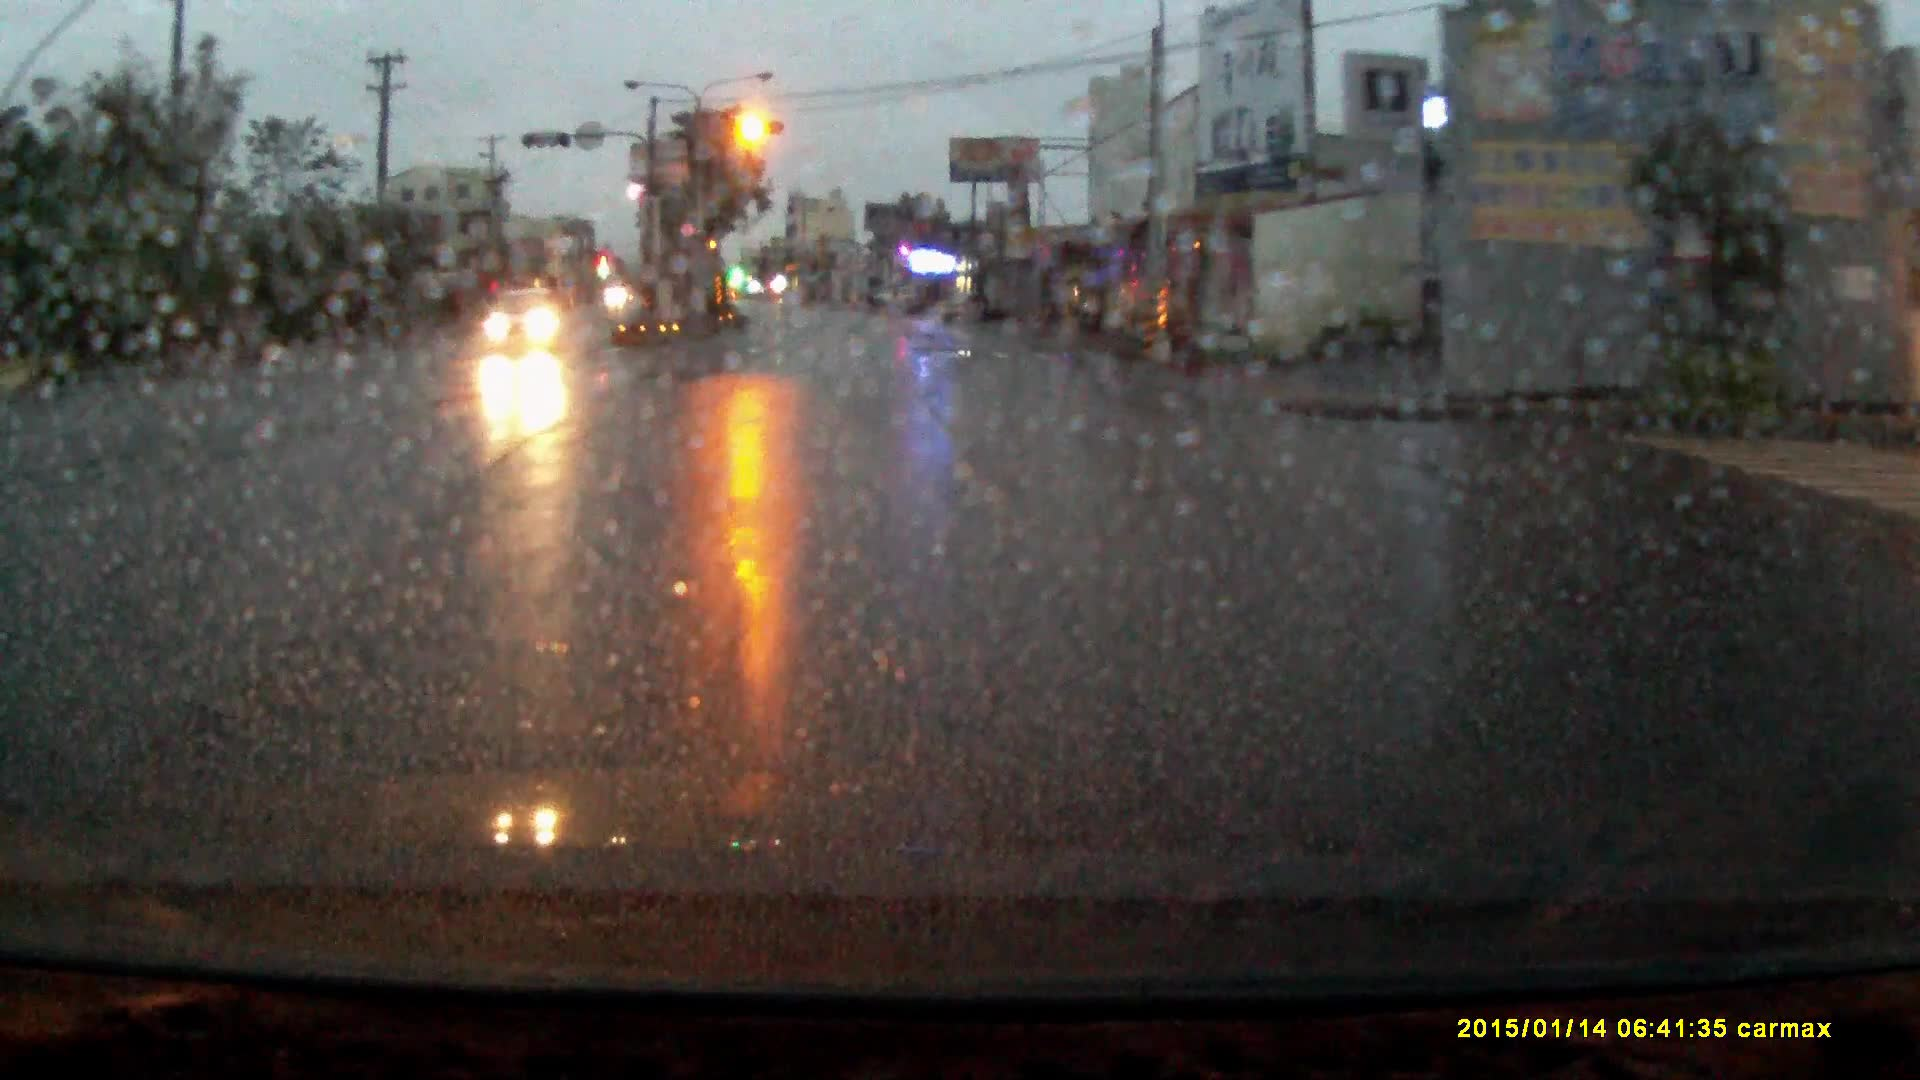vehicle: (483, 290, 570, 361)
